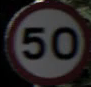Speed limit: (7, 4, 82, 77)
